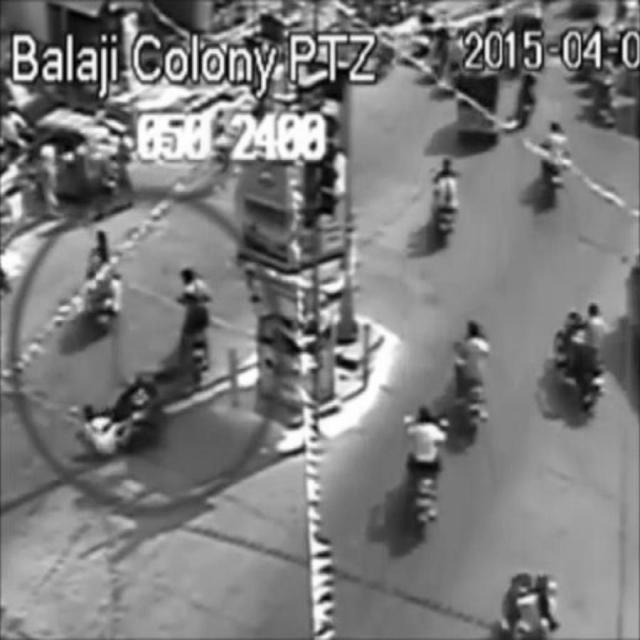vehicle: (77, 371, 165, 451), (550, 304, 606, 414), (406, 405, 446, 542), (175, 268, 216, 388), (454, 319, 491, 450), (83, 228, 123, 329), (457, 65, 499, 148), (539, 122, 569, 204), (435, 158, 457, 251)
